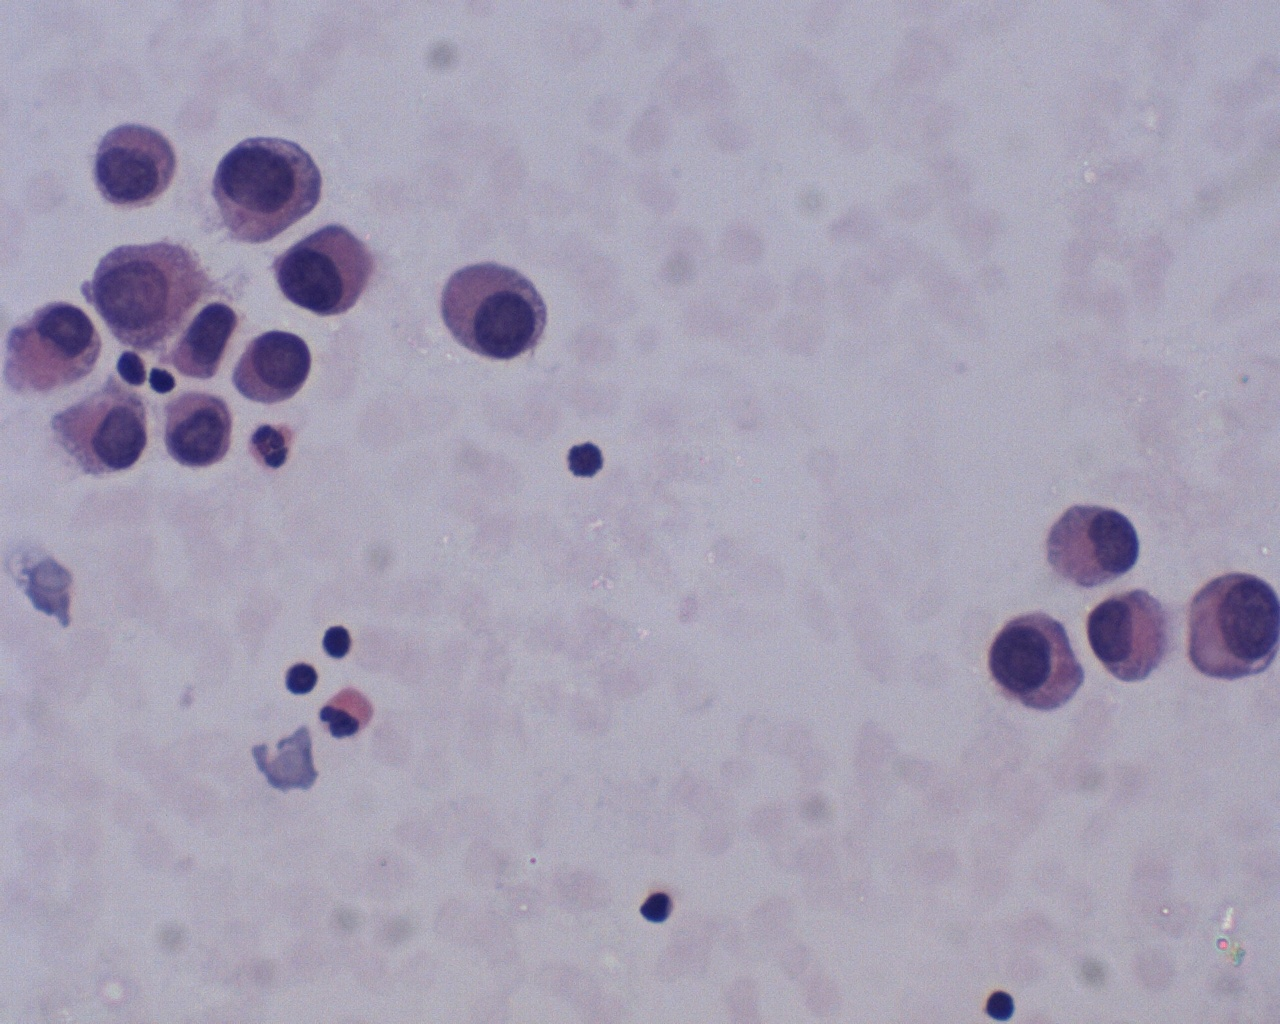ab: (200, 123, 331, 248), (1172, 555, 1280, 684), (87, 237, 210, 344), (985, 595, 1089, 720), (85, 109, 189, 219), (271, 214, 380, 318), (56, 378, 155, 482), (1079, 586, 1173, 693), (154, 386, 247, 481), (233, 320, 327, 409)
lymph: (315, 618, 364, 668), (280, 657, 328, 706), (634, 882, 678, 928)
meso: (434, 250, 559, 365), (1038, 489, 1149, 594)
neutro: (240, 416, 294, 472)
